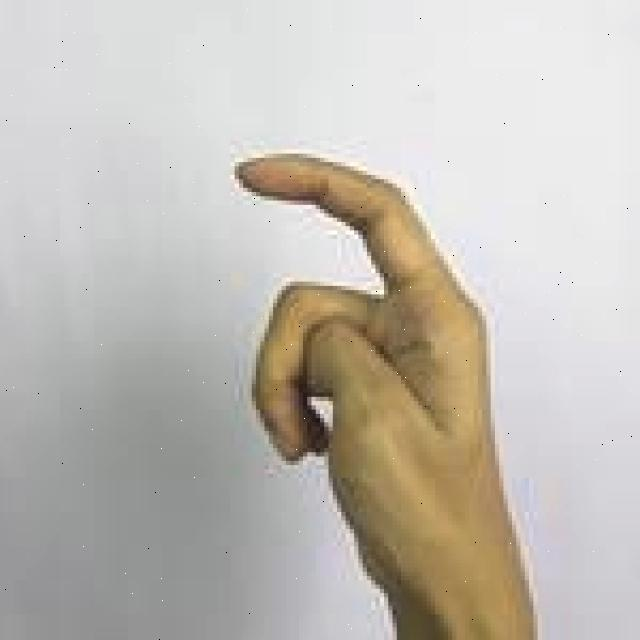X: (229, 143, 539, 640)
